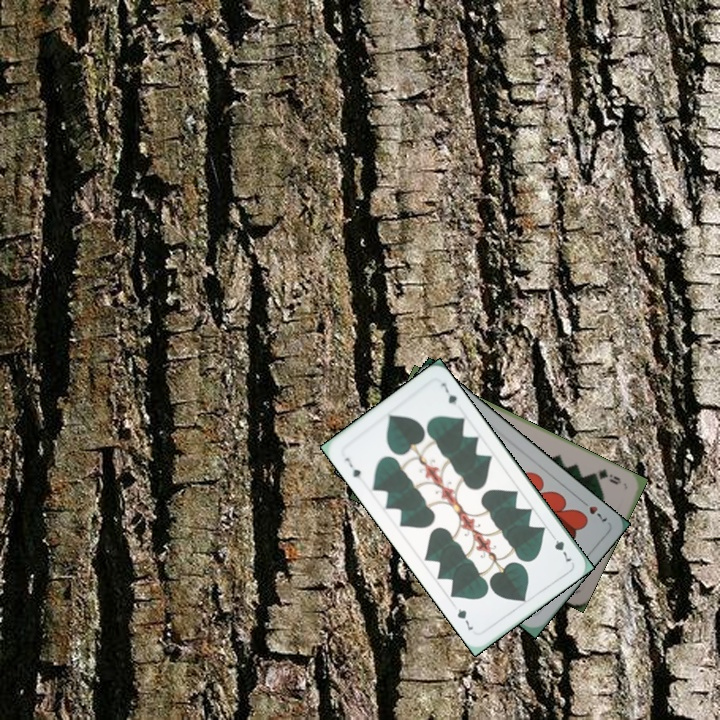G7: (546, 529, 574, 564), (341, 453, 363, 481)
G9: (588, 465, 624, 487)
H7: (576, 495, 610, 524)
